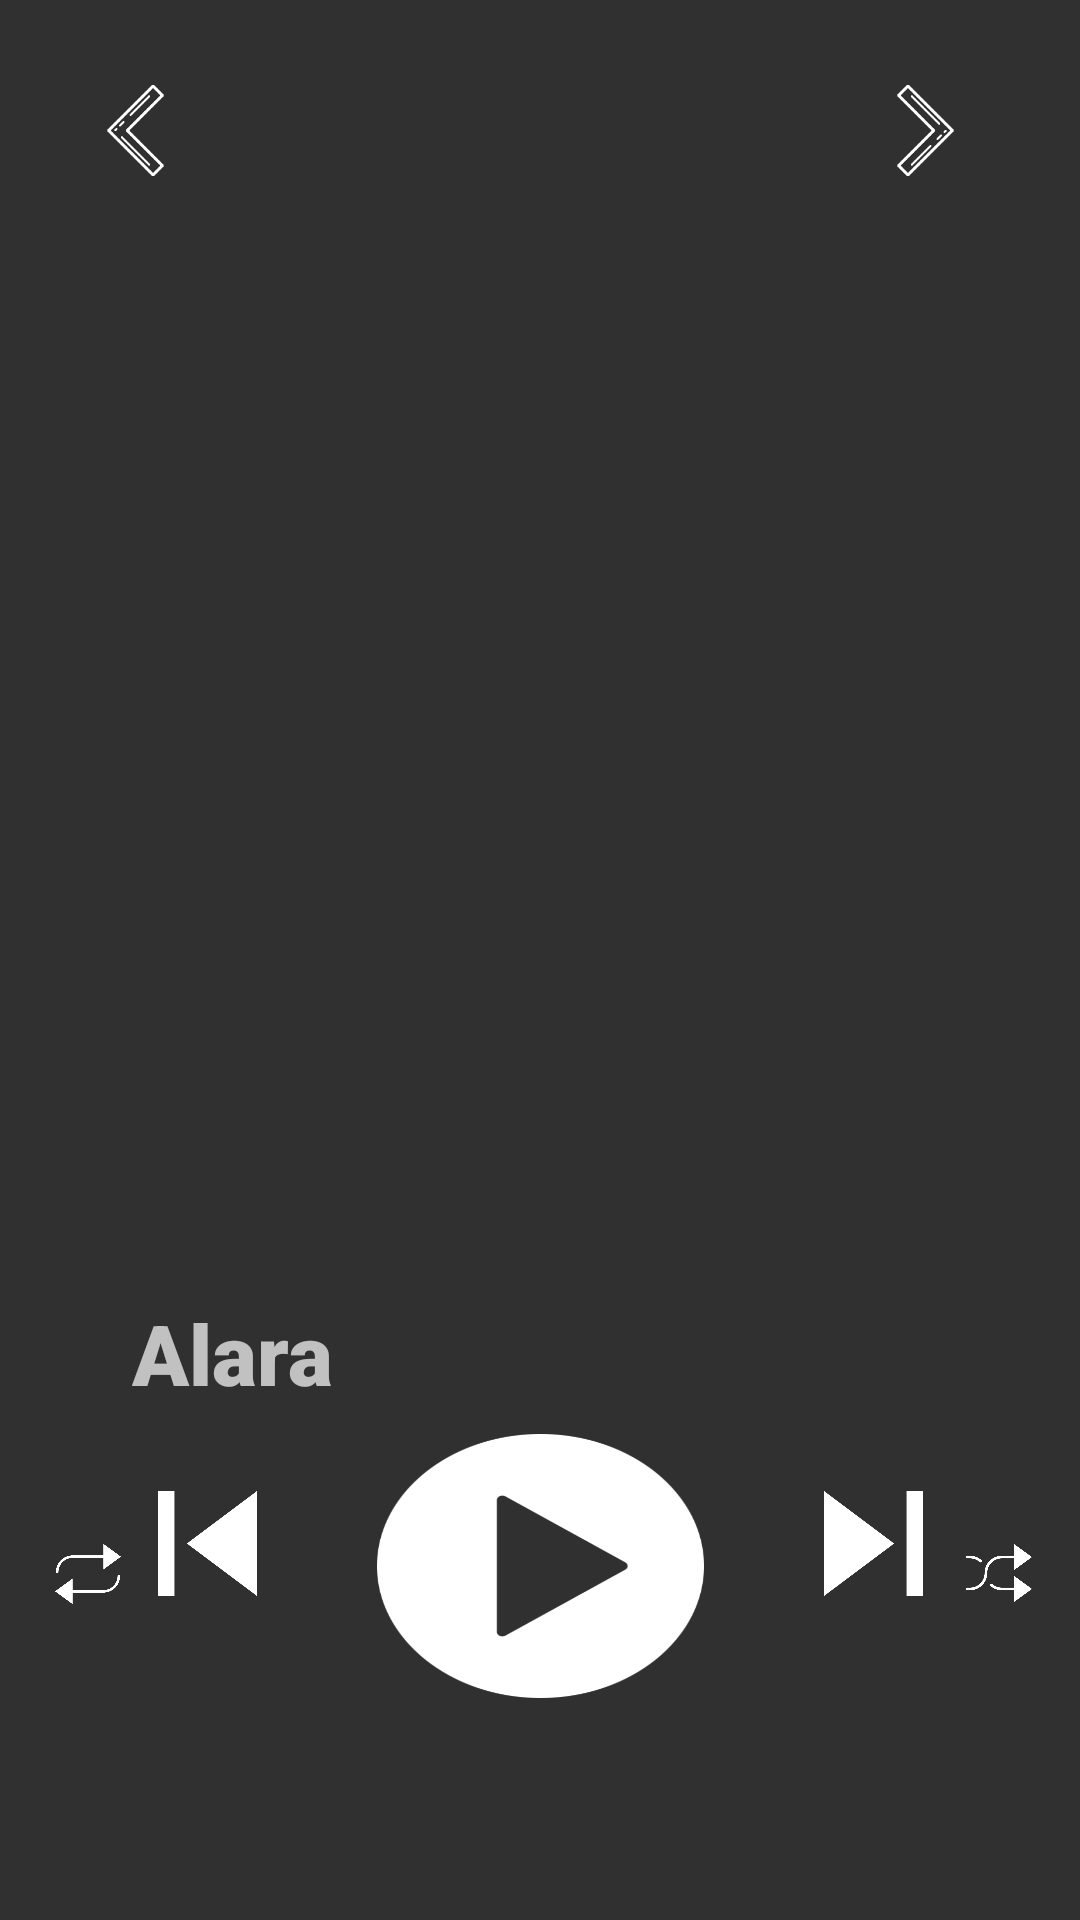

Screen size 1080×1920. Icon name, then its box in pixels as (x1, y1, x2, y2):
nextleft: (158, 1491, 257, 1596)
nextright: (824, 1491, 923, 1596)
play: (377, 1434, 704, 1698)
